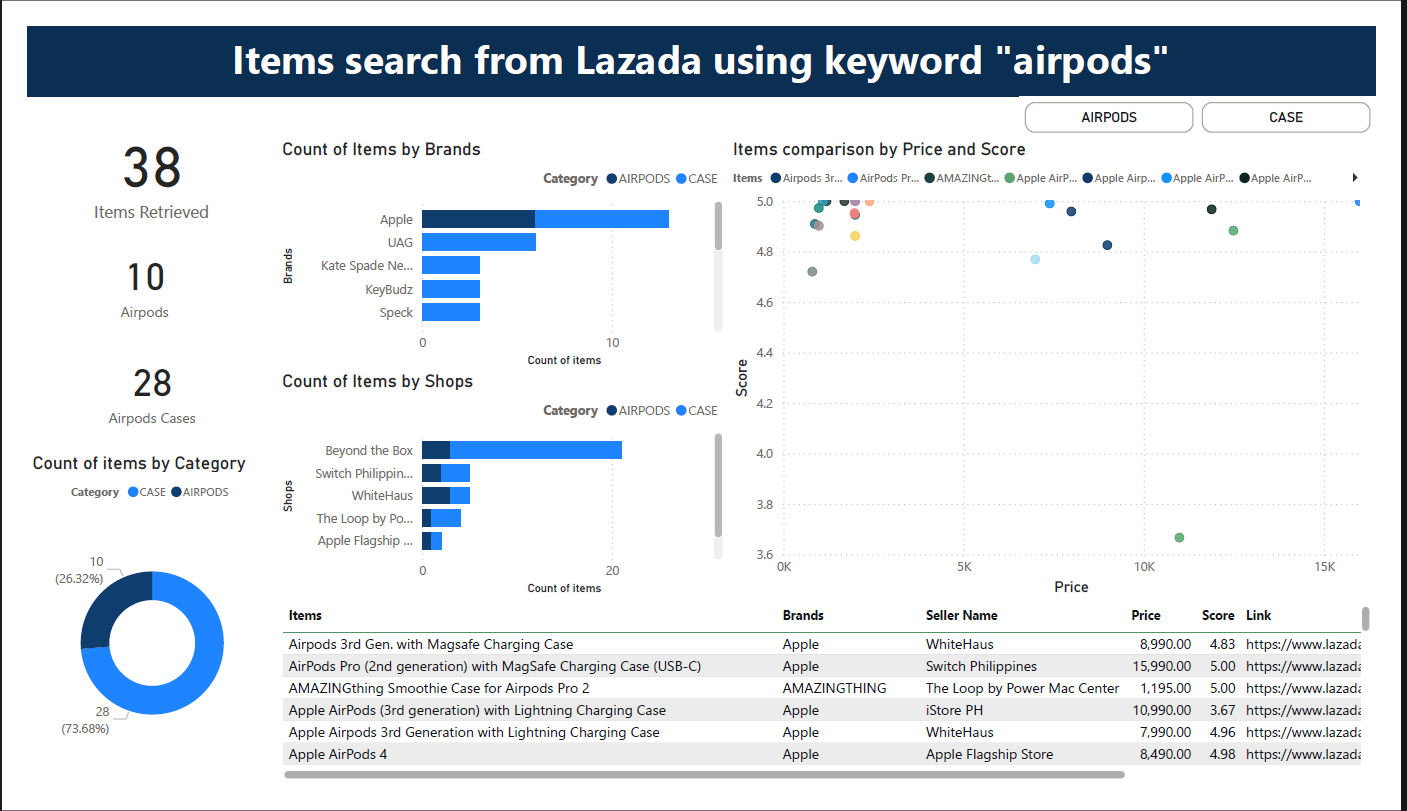

This screenshot's page, from the dashboard's own definition file:
{"tool":"powerbi","page":{"name":"Lazada Airpods","canvas":[1280,720],"ordinal":0},"visuals":[{"type":"card","fields":{"Values":["CountNonNull(LazadaProducts.item_id)"]},"box":[0,67.3,236,139.4],"z":0},{"type":"card","fields":{"Values":["LazadaProducts.Count of Cases"]},"box":[0,283.7,237.2,119.8],"z":1000},{"type":"card","fields":{"Values":["LazadaProducts.Count of Airpods"]},"box":[0,203,222.6,80.7],"z":2000},{"type":"textbox","box":[0,0,1280.3,67.3],"z":3000},{"type":"barChart","title":"Count of Items by Brands","fields":{"Category":["LazadaProducts.brand"],"Y":["CountNonNull(LazadaProducts.item_id)"],"Series":["LazadaProducts.category"]},"box":[237.2,106.4,428,222.6],"z":4000},{"type":"donutChart","title":"Count of items by Category","fields":{"Category":["LazadaProducts.category"],"Y":["CountNonNull(LazadaProducts.item_id)"]},"box":[0,403.5,237.2,316.7],"z":5000},{"type":"barChart","title":"Count of Items by Shops","fields":{"Category":["LazadaProducts.shop_name"],"Y":["CountNonNull(LazadaProducts.item_id)"],"Series":["LazadaProducts.category"]},"box":[237.2,326.5,428,218.9],"z":6000},{"type":"scatterChart","title":"Items comparison by Price and Score","fields":{"Category":["LazadaProducts.title"],"X":["LazadaProducts.PriceMeasure"],"Series":["LazadaProducts.title"],"Y":["LazadaProducts.AverageScoreMeasure"]},"box":[665.2,106.4,615.1,439],"z":7000},{"type":"tableEx","fields":{"Values":["LazadaProducts.title","LazadaProducts.brand","LazadaProducts.seller_name","LazadaProducts.PriceMeasure","LazadaProducts.AverageScoreMeasure","LazadaProducts.shop_url"]},"box":[237.2,545.4,1043.1,174.9],"z":8000},{"type":"advancedSlicerVisual","title":"category","fields":{"Values":["LazadaProducts.category"]},"box":[941.6,67.3,338.7,39.1],"z":9000}]}

Visuals, with their boxes in screenshot pixels (x1, y1, x2, y2), scaled from the page's 1280x720 canvas onto the 1407x811 screenshot:
card - CountNonNull(LazadaProducts.item_id): <region>0, 76, 259, 233</region>
card - LazadaProducts.Count of Cases: <region>0, 320, 261, 454</region>
card - LazadaProducts.Count of Airpods: <region>0, 229, 245, 320</region>
textbox: <region>0, 0, 1406, 76</region>
"Count of Items by Brands" barChart: <region>261, 120, 731, 371</region>
"Count of items by Category" donutChart: <region>0, 454, 261, 810</region>
"Count of Items by Shops" barChart: <region>261, 368, 731, 614</region>
"Items comparison by Price and Score" scatterChart: <region>731, 120, 1406, 614</region>
tableEx - LazadaProducts.title x LazadaProducts.brand: <region>261, 614, 1406, 810</region>
"category" advancedSlicerVisual: <region>1035, 76, 1406, 120</region>
